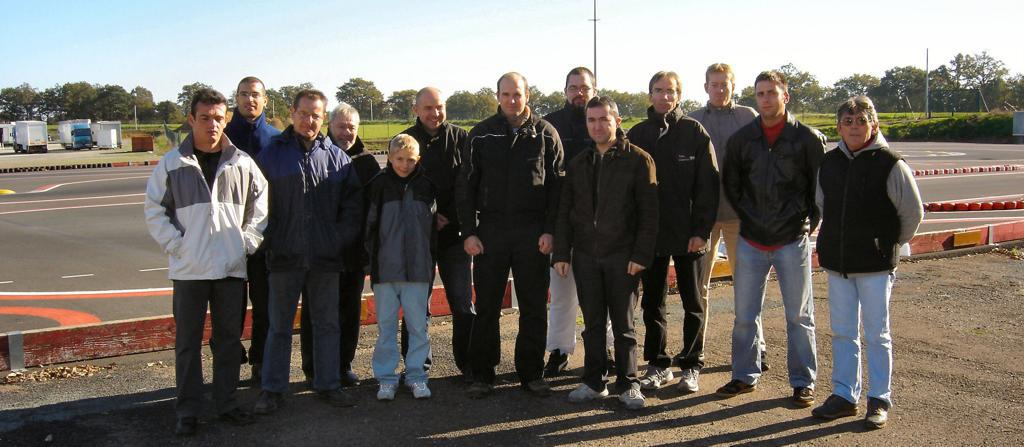face: (194, 101, 226, 141), (499, 76, 528, 117), (294, 100, 325, 138), (417, 93, 448, 129), (755, 80, 784, 118), (842, 110, 871, 147), (588, 105, 615, 144), (332, 115, 360, 150), (652, 76, 679, 112), (567, 74, 595, 105), (707, 72, 731, 107), (238, 84, 264, 115), (393, 149, 419, 175)
